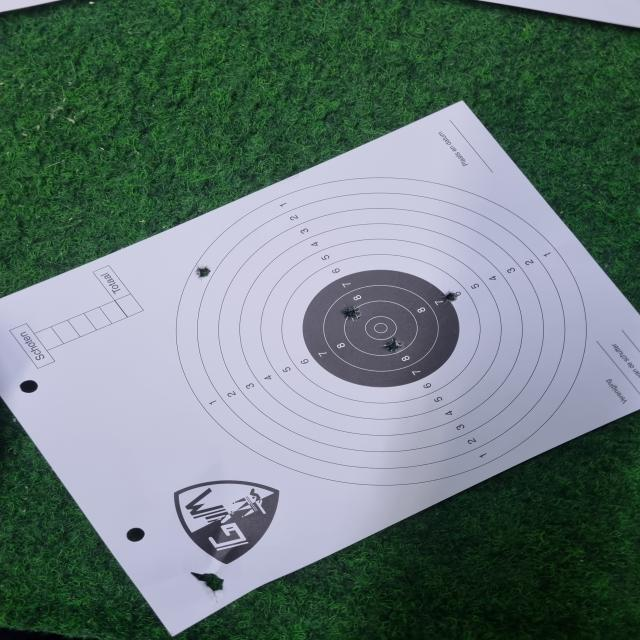1: (194, 264, 212, 282)
7: (441, 290, 458, 304)
9: (382, 337, 403, 354), (341, 306, 361, 322)
Target: (175, 183, 592, 489)
black_contour: (302, 270, 460, 388)
